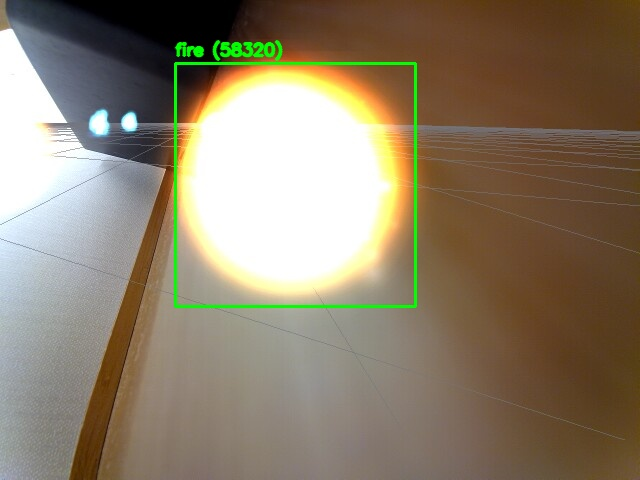fire: (175, 63, 415, 306)
